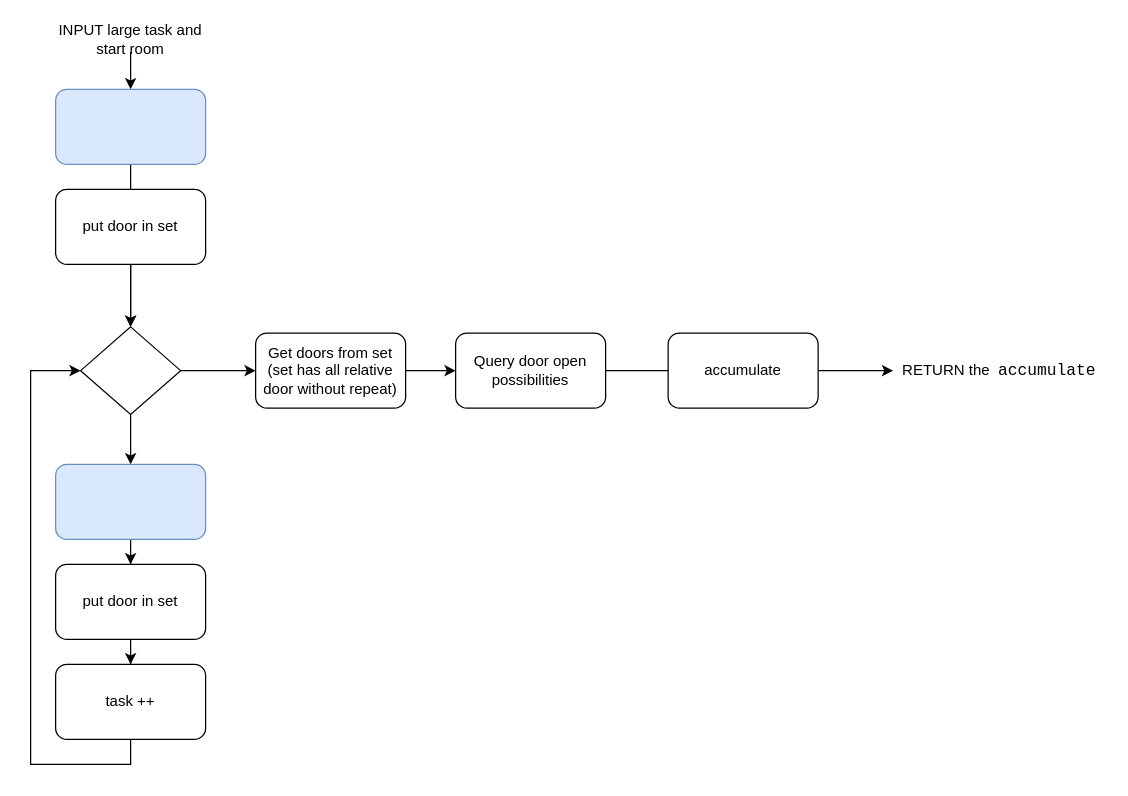
Some shapes in this 1128 by 796 pixel diagram are drawn without their labels. The box of each missing label's shape, as (x1, y1, x2, y2) in pixels:
Get relative doors (last room, this room): (54, 463, 206, 539)
Get relative doors (start room, first small task room): (54, 88, 206, 164)
last task?: (79, 326, 181, 414)
